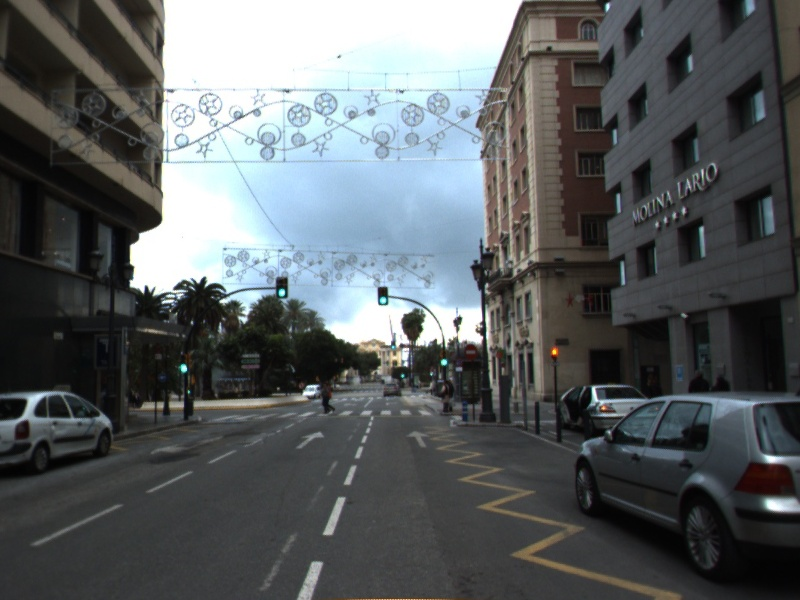STRAIGHT: (293, 429, 327, 451), (404, 428, 433, 450)
STRAIGHT_LEFT: (148, 433, 226, 457)
